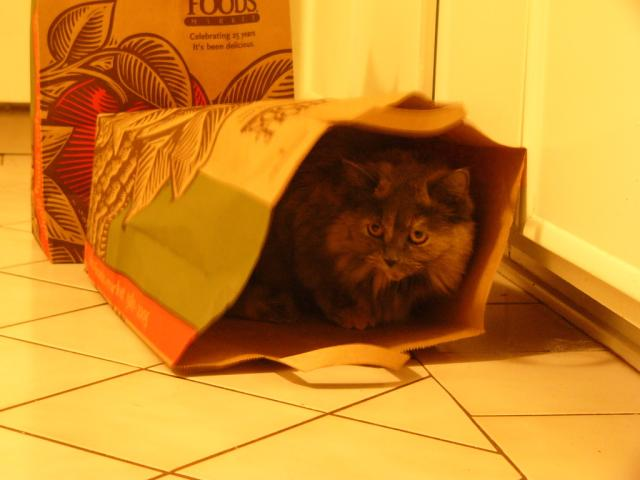Cat: (231, 132, 474, 330)
